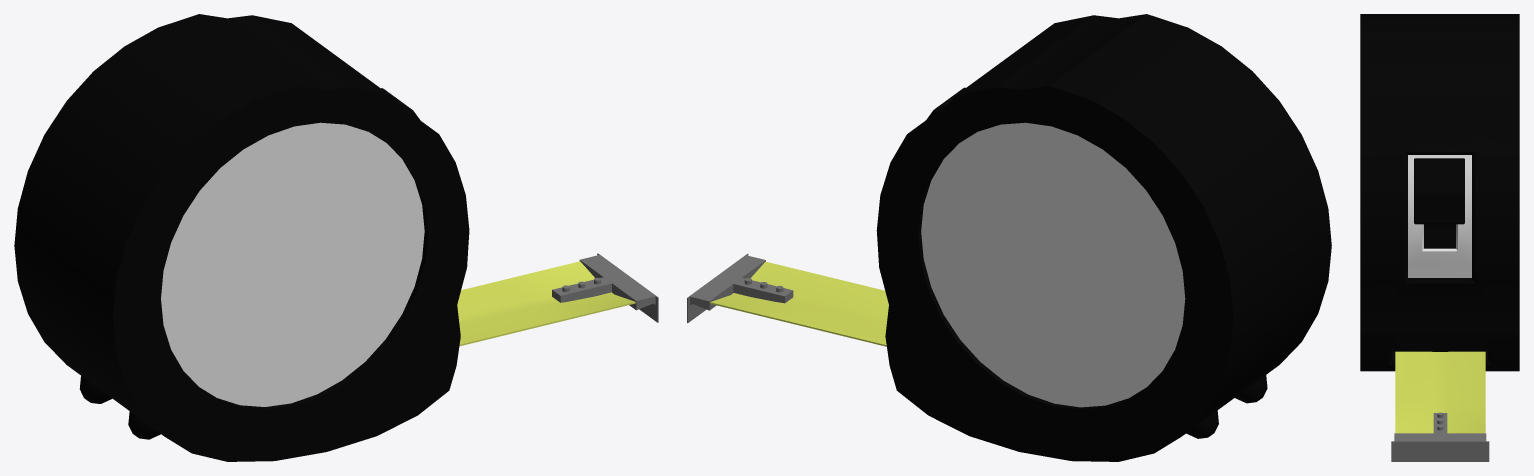
The model's file is _apeMeasure.fbx.
3 views of the same model, side by side, from view 1: azimuth 30°, elevation 25°; view 2: azimuth 150°, elevation 25°; view 3: azimuth 270°, elevation 25° (orthographic). The views are drawn at different scales.
Parts seen in each view (by area): view 1: Cylinder.021, Cylinder.020, Cube.010, Cylinder.022; view 2: Cylinder.021, Cylinder.020, Cube.010, Cylinder.022; view 3: Cylinder.021, Cube.010, Cylinder.006, Cube.038.
Part boxes in pixels (bbox=[...]): Cylinder.021: bbox=[14, 14, 469, 461]; Cylinder.020: bbox=[161, 122, 424, 406]; Cube.010: bbox=[457, 253, 658, 346]; Cylinder.022: bbox=[79, 375, 160, 439]; Cylinder.021: bbox=[876, 14, 1331, 461]; Cylinder.020: bbox=[921, 122, 1185, 407]; Cube.010: bbox=[687, 253, 888, 346]; Cylinder.022: bbox=[1186, 375, 1267, 438]; Cylinder.021: bbox=[1360, 14, 1519, 371]; Cube.010: bbox=[1391, 351, 1489, 461]; Cylinder.006: bbox=[1408, 155, 1471, 277]; Cube.038: bbox=[1414, 158, 1464, 224].
Size of the model in its own units: 23.5 by 14.83 by 7.07.
